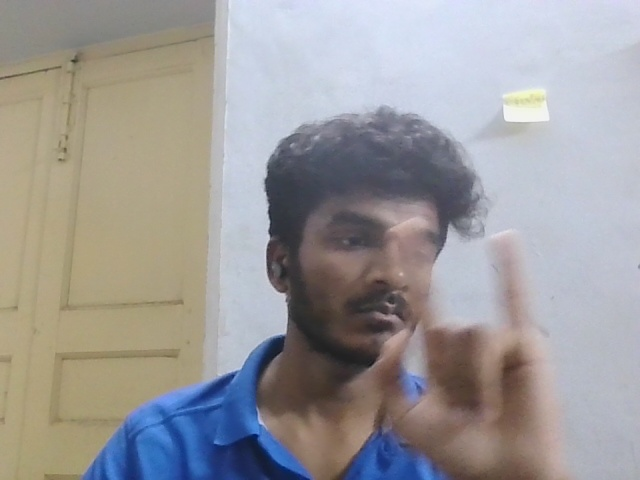Iloveyou: (349, 210, 589, 474)
